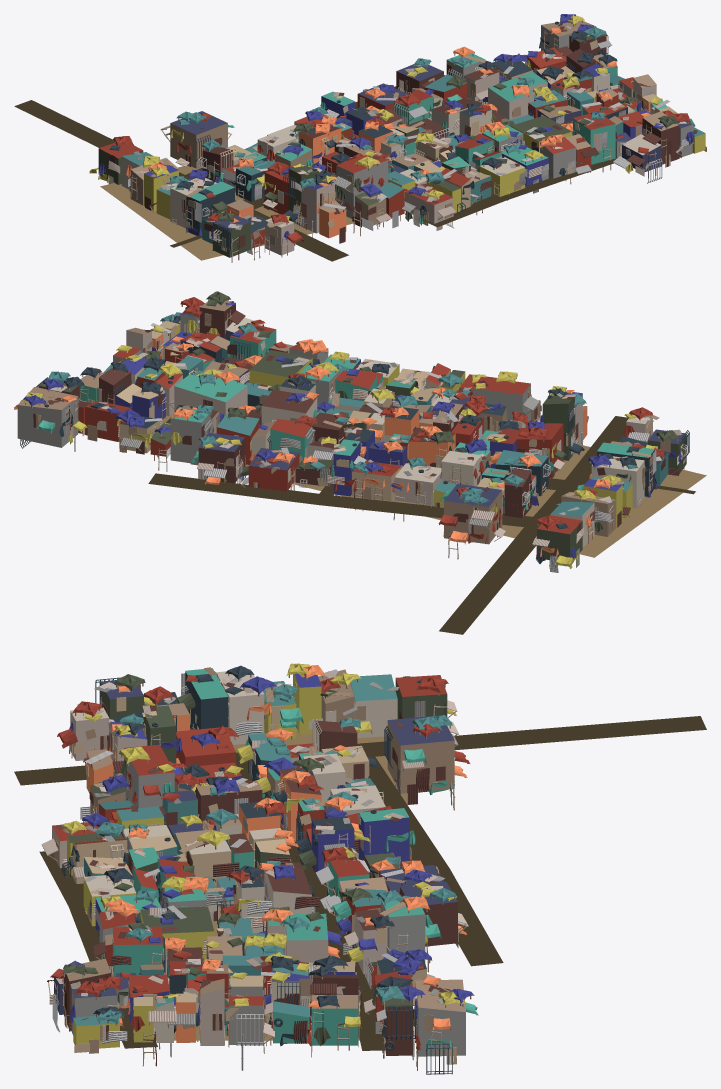
File: TD_Env3.fbx
3 views of the same model, one above another, from view 1: azimuth 30°, elevation 25°; view 2: azimuth 150°, elevation 25°; view 3: azimuth 270°, elevation 25° (orthographic). The views are drawn at different scales.
Visible parts, largest first — view 1: Env_TD_03; view 2: Env_TD_03; view 3: Env_TD_03.
Boxes of the visible parts, x1,y1,x2,y2 form: Env_TD_03: (14,14,706,262); Env_TD_03: (14,291,706,634); Env_TD_03: (14,663,706,1074).
Bounding box in the file's own units: 8704 × 1198 × 7013.
Materials: 3 (1 with a texture image).
